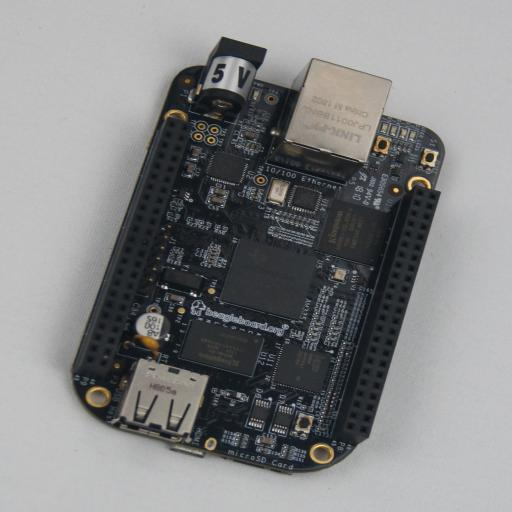Beaglebone Black: (70, 37, 445, 475)
